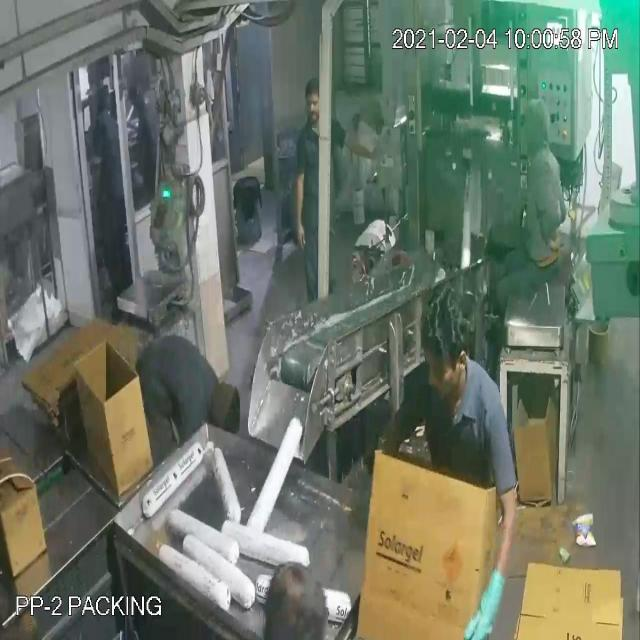No_Gloves: (28, 55, 484, 581)
